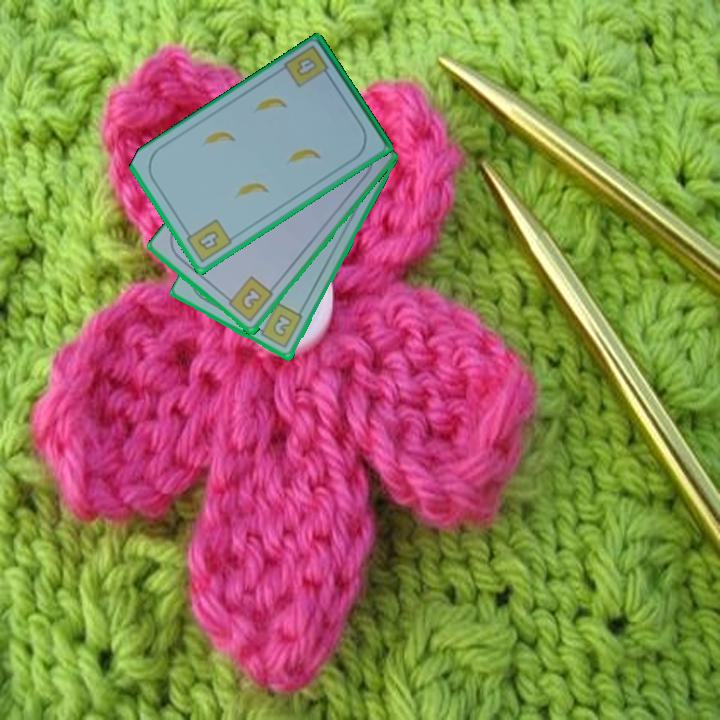2b: (222, 273, 276, 325), (253, 300, 305, 351)
4b: (181, 215, 235, 266), (281, 42, 334, 91)
